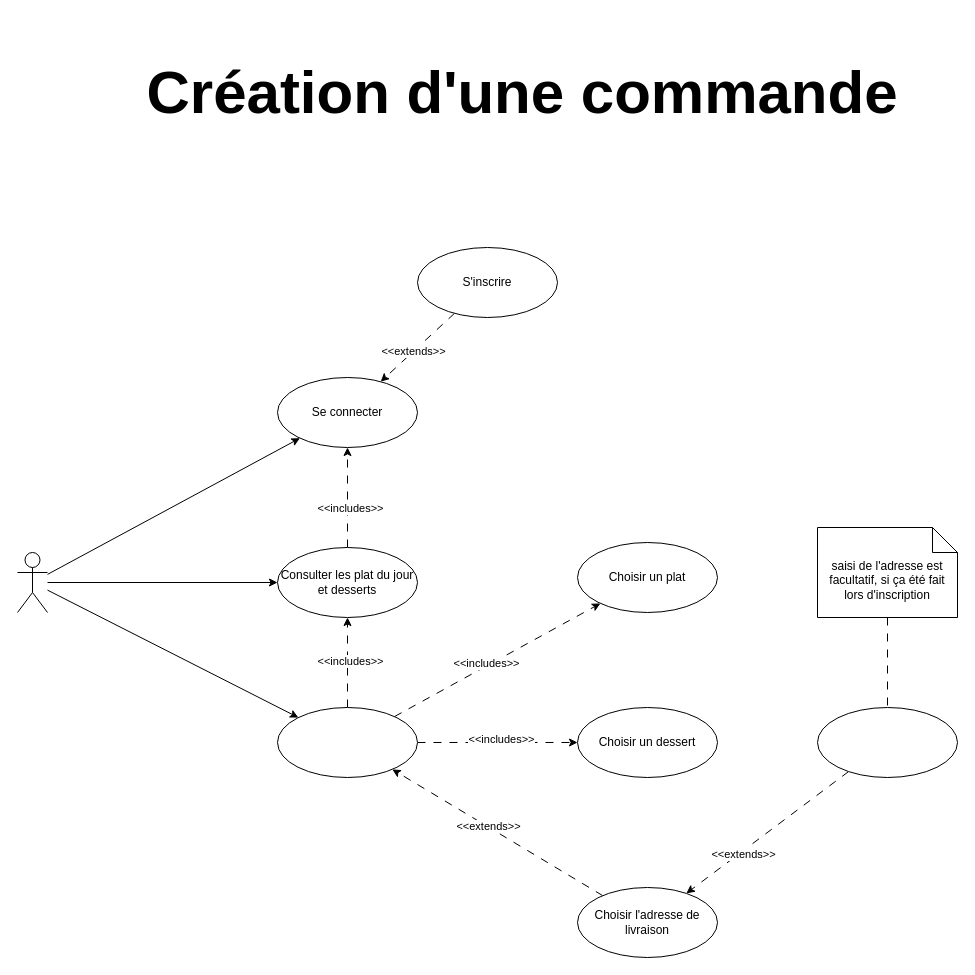
Image size: 975x975. Some labels were removed from this diagram. The shapes that lost their labels are listed below. From the top down, each one's centre as x and y in pixels, then its label:
At point (32, 582): "Client".
At point (347, 742): "Passer la commande".
At point (887, 742): "Saisir une adresse".
